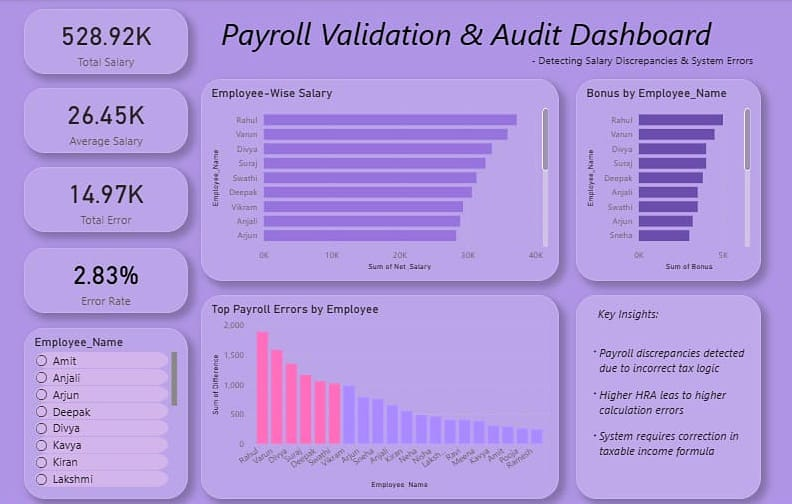

Layout of this report page (visuals, bound fields, positions):
{"tool":"powerbi","page":{"name":"Page 1","canvas":[1280,720],"ordinal":0},"visuals":[{"type":"card","fields":{"Values":["Sum(Sheet1.Net_Salary)"]},"box":[126.1,14.2,232.4,92],"z":0},{"type":"card","fields":{"Values":["Avg(Sheet1.Net_Salary)"]},"box":[126.1,126.1,232.4,92],"z":1000},{"type":"clusteredBarChart","title":"Employee-Wise Salary","fields":{"Y":["Sum(Sheet1.Net_Salary)"],"Category":["Sheet1.Employee_Name"]},"box":[377,113.4,507.4,286.3],"z":2000},{"type":"clusteredColumnChart","title":"Top Payroll Errors by Employee","fields":{"Category":["Sheet1.Employee_Name"],"Y":["Sum(Sheet1.Difference)"]},"box":[377.5,419.7,507,288.7],"z":3000},{"type":"clusteredBarChart","title":" Bonus by Employee_Name","fields":{"Category":["Sheet1.Employee_Name"],"Y":["Sum(Sheet1.Bonus)"]},"box":[908.5,113.4,262.2,286.3],"z":4000},{"type":"listSlicer","fields":{"Values":["Sheet1.Employee_Name"]},"box":[126.1,466.3,232.4,242.4],"z":5000},{"type":"textbox","box":[908.5,419.5,262.2,289.1],"z":6000},{"type":"textbox","box":[377,14.2,793.7,89.3],"z":7000},{"type":"card","title":"Toal Error","fields":{"Values":["Sum(Sheet1.Difference)"]},"box":[126.1,238.1,232.4,92.1],"z":8000},{"type":"card","fields":{"Values":["Sheet1.Error %"]},"box":[126.1,352.9,232.4,92.1],"z":8001}]}

Visuals, with their boxes on the page's 1280x720 design canvas (x1, y1, x2, y2). These are canvas units, not pixel positions in the 792x504 screenshot, which may show the page scaled, cropped or inside an application window:
card - Sum(Sheet1.Net_Salary): bbox=[126, 14, 358, 106]
card - Avg(Sheet1.Net_Salary): bbox=[126, 126, 358, 218]
"Employee-Wise Salary" clusteredBarChart: bbox=[377, 113, 884, 400]
"Top Payroll Errors by Employee" clusteredColumnChart: bbox=[378, 420, 884, 708]
" Bonus by Employee_Name" clusteredBarChart: bbox=[908, 113, 1171, 400]
listSlicer - Sheet1.Employee_Name: bbox=[126, 466, 358, 709]
textbox: bbox=[908, 420, 1171, 709]
textbox: bbox=[377, 14, 1171, 104]
"Toal Error" card: bbox=[126, 238, 358, 330]
card - Sheet1.Error %: bbox=[126, 353, 358, 445]
